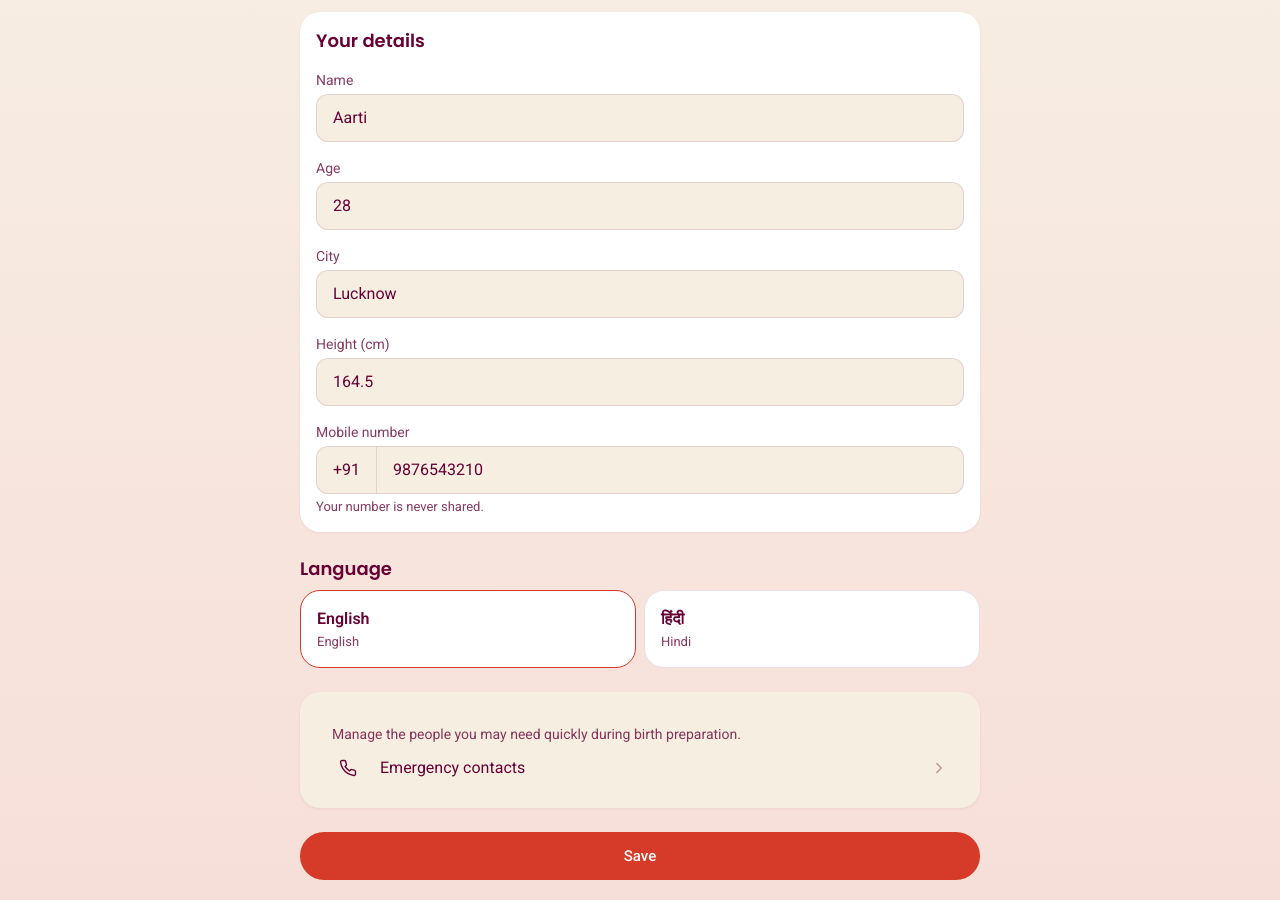
Test: PersonalInfoForm › renders server field errors beside their inputs
(page scrolled)
Click the button "Save" at (640, 856), box [300, 832, 980, 880]
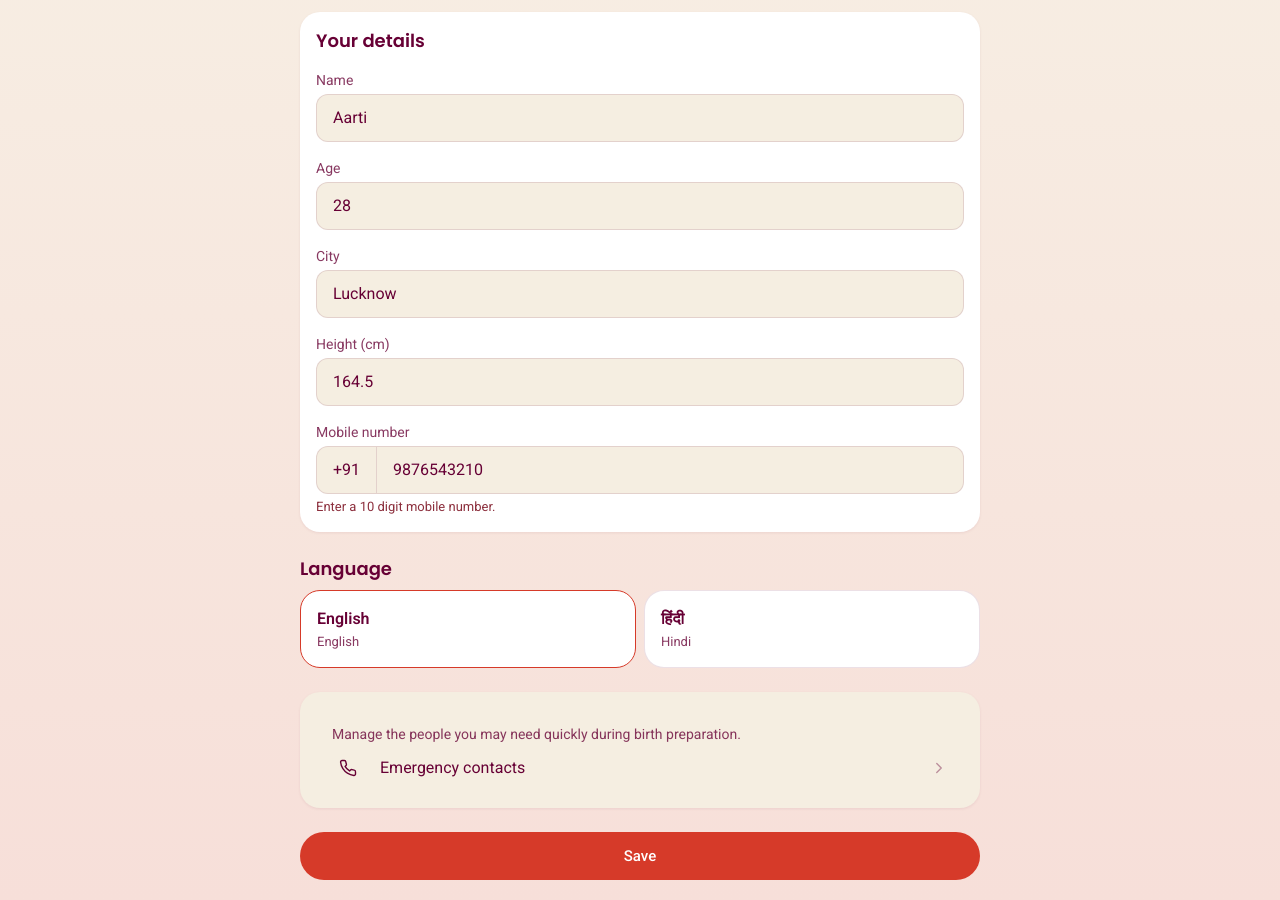
Expected: the text "Enter a 10 digit mobile number." is shown, [316, 499, 496, 514]
